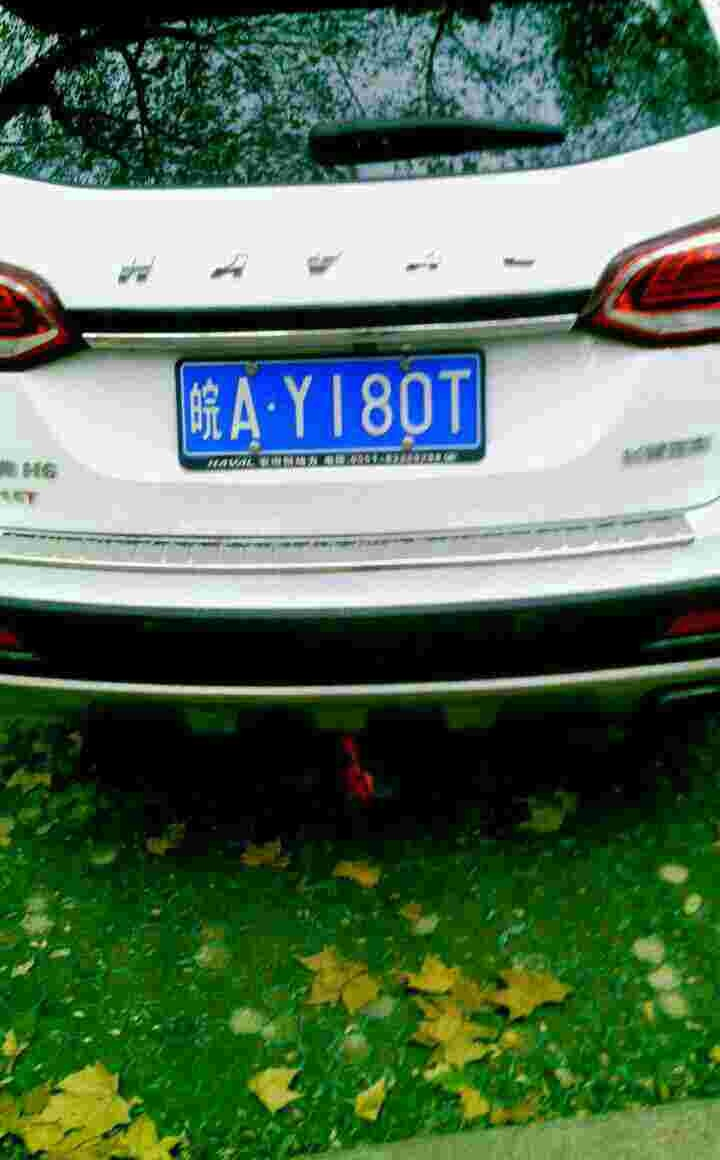license_plate: (174, 361, 471, 461)
